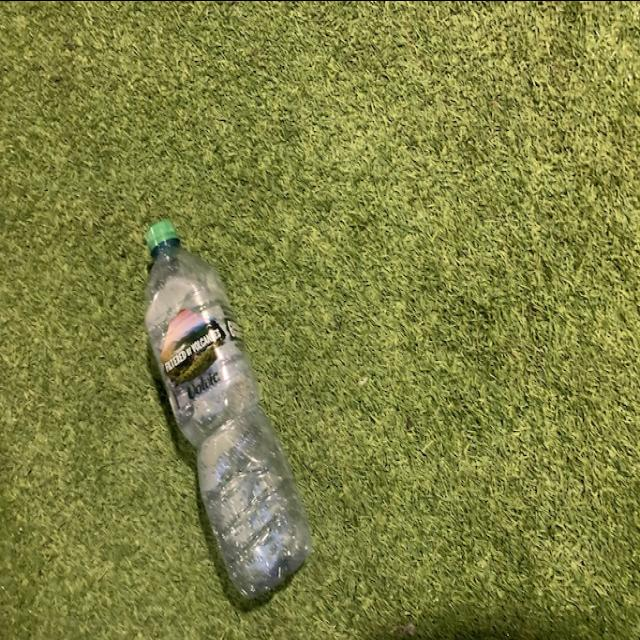PET: (140, 217, 314, 604)
